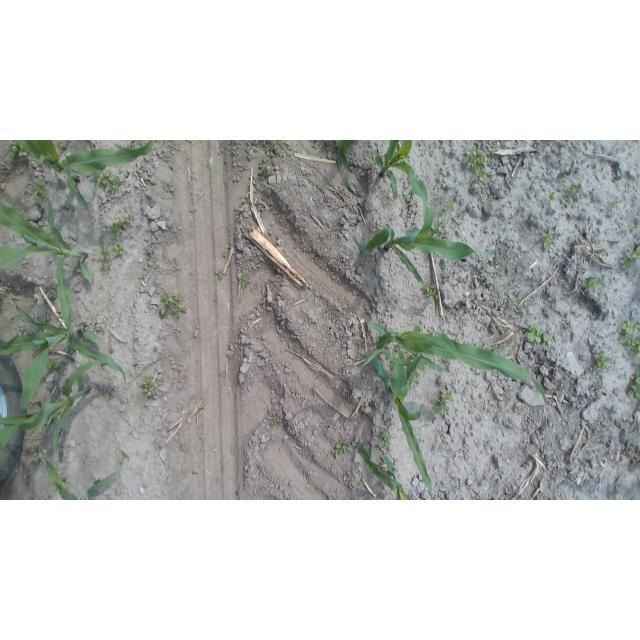Maize: (357, 315, 553, 413), (0, 181, 92, 347), (1, 301, 132, 411), (354, 203, 514, 293), (0, 358, 118, 463), (367, 343, 444, 497), (16, 140, 157, 213), (333, 141, 432, 236), (39, 415, 125, 500), (354, 443, 422, 500)
Weeds: (463, 142, 492, 182), (156, 291, 188, 322), (620, 321, 640, 360), (97, 243, 126, 269), (108, 214, 134, 239), (430, 389, 454, 416), (96, 170, 122, 193), (139, 373, 161, 400), (525, 323, 552, 344), (618, 245, 640, 270), (8, 140, 33, 160), (626, 370, 640, 404), (594, 350, 612, 375), (31, 180, 49, 204), (583, 278, 604, 298), (541, 228, 557, 253), (49, 473, 68, 493), (391, 346, 409, 367), (567, 179, 585, 200), (333, 441, 352, 460), (409, 366, 427, 386), (378, 430, 395, 451), (423, 283, 441, 302), (236, 270, 252, 291), (430, 217, 446, 238), (443, 199, 461, 217), (213, 264, 230, 282), (100, 385, 116, 403), (44, 356, 62, 372), (259, 162, 274, 177), (508, 297, 523, 312), (119, 450, 134, 464), (404, 187, 417, 202), (611, 196, 623, 211), (361, 404, 370, 417), (625, 222, 636, 232), (547, 190, 558, 199), (523, 200, 534, 209), (358, 478, 367, 489), (423, 351, 434, 359), (512, 174, 521, 183)
